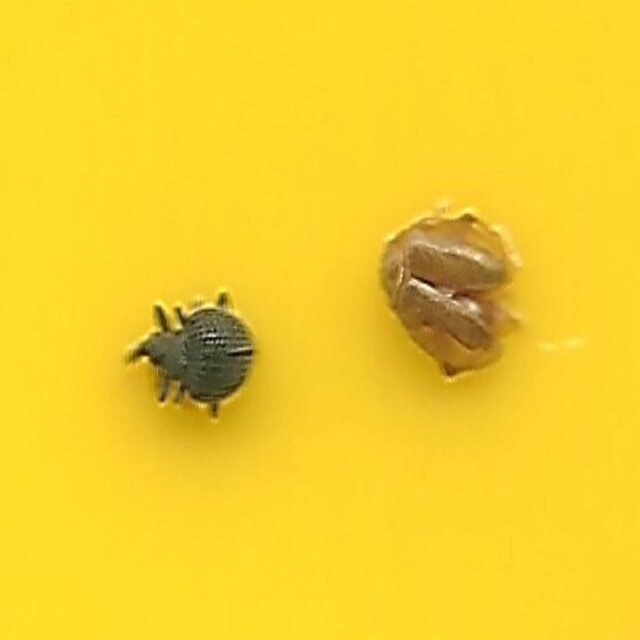Coleoptera: (379, 213, 516, 382), (124, 301, 262, 427)
